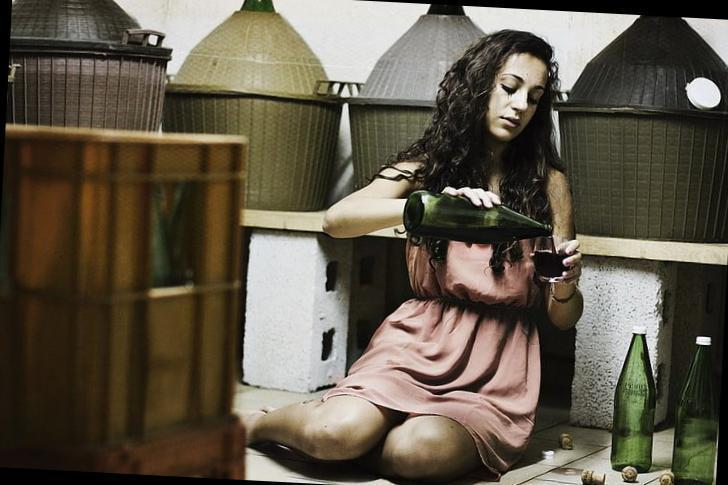Drunk: (489, 60, 546, 135)
